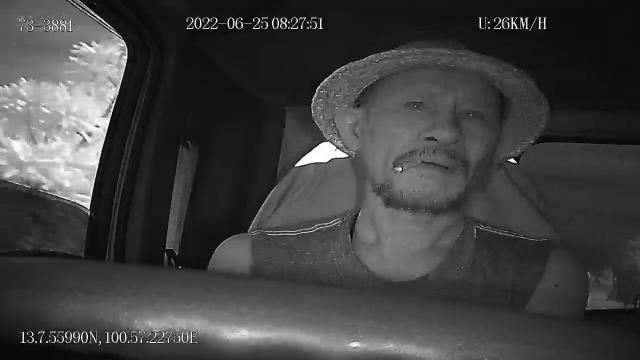SafeDriving: (397, 88, 434, 118), (453, 102, 489, 129)
Smoking: (393, 155, 423, 175)
